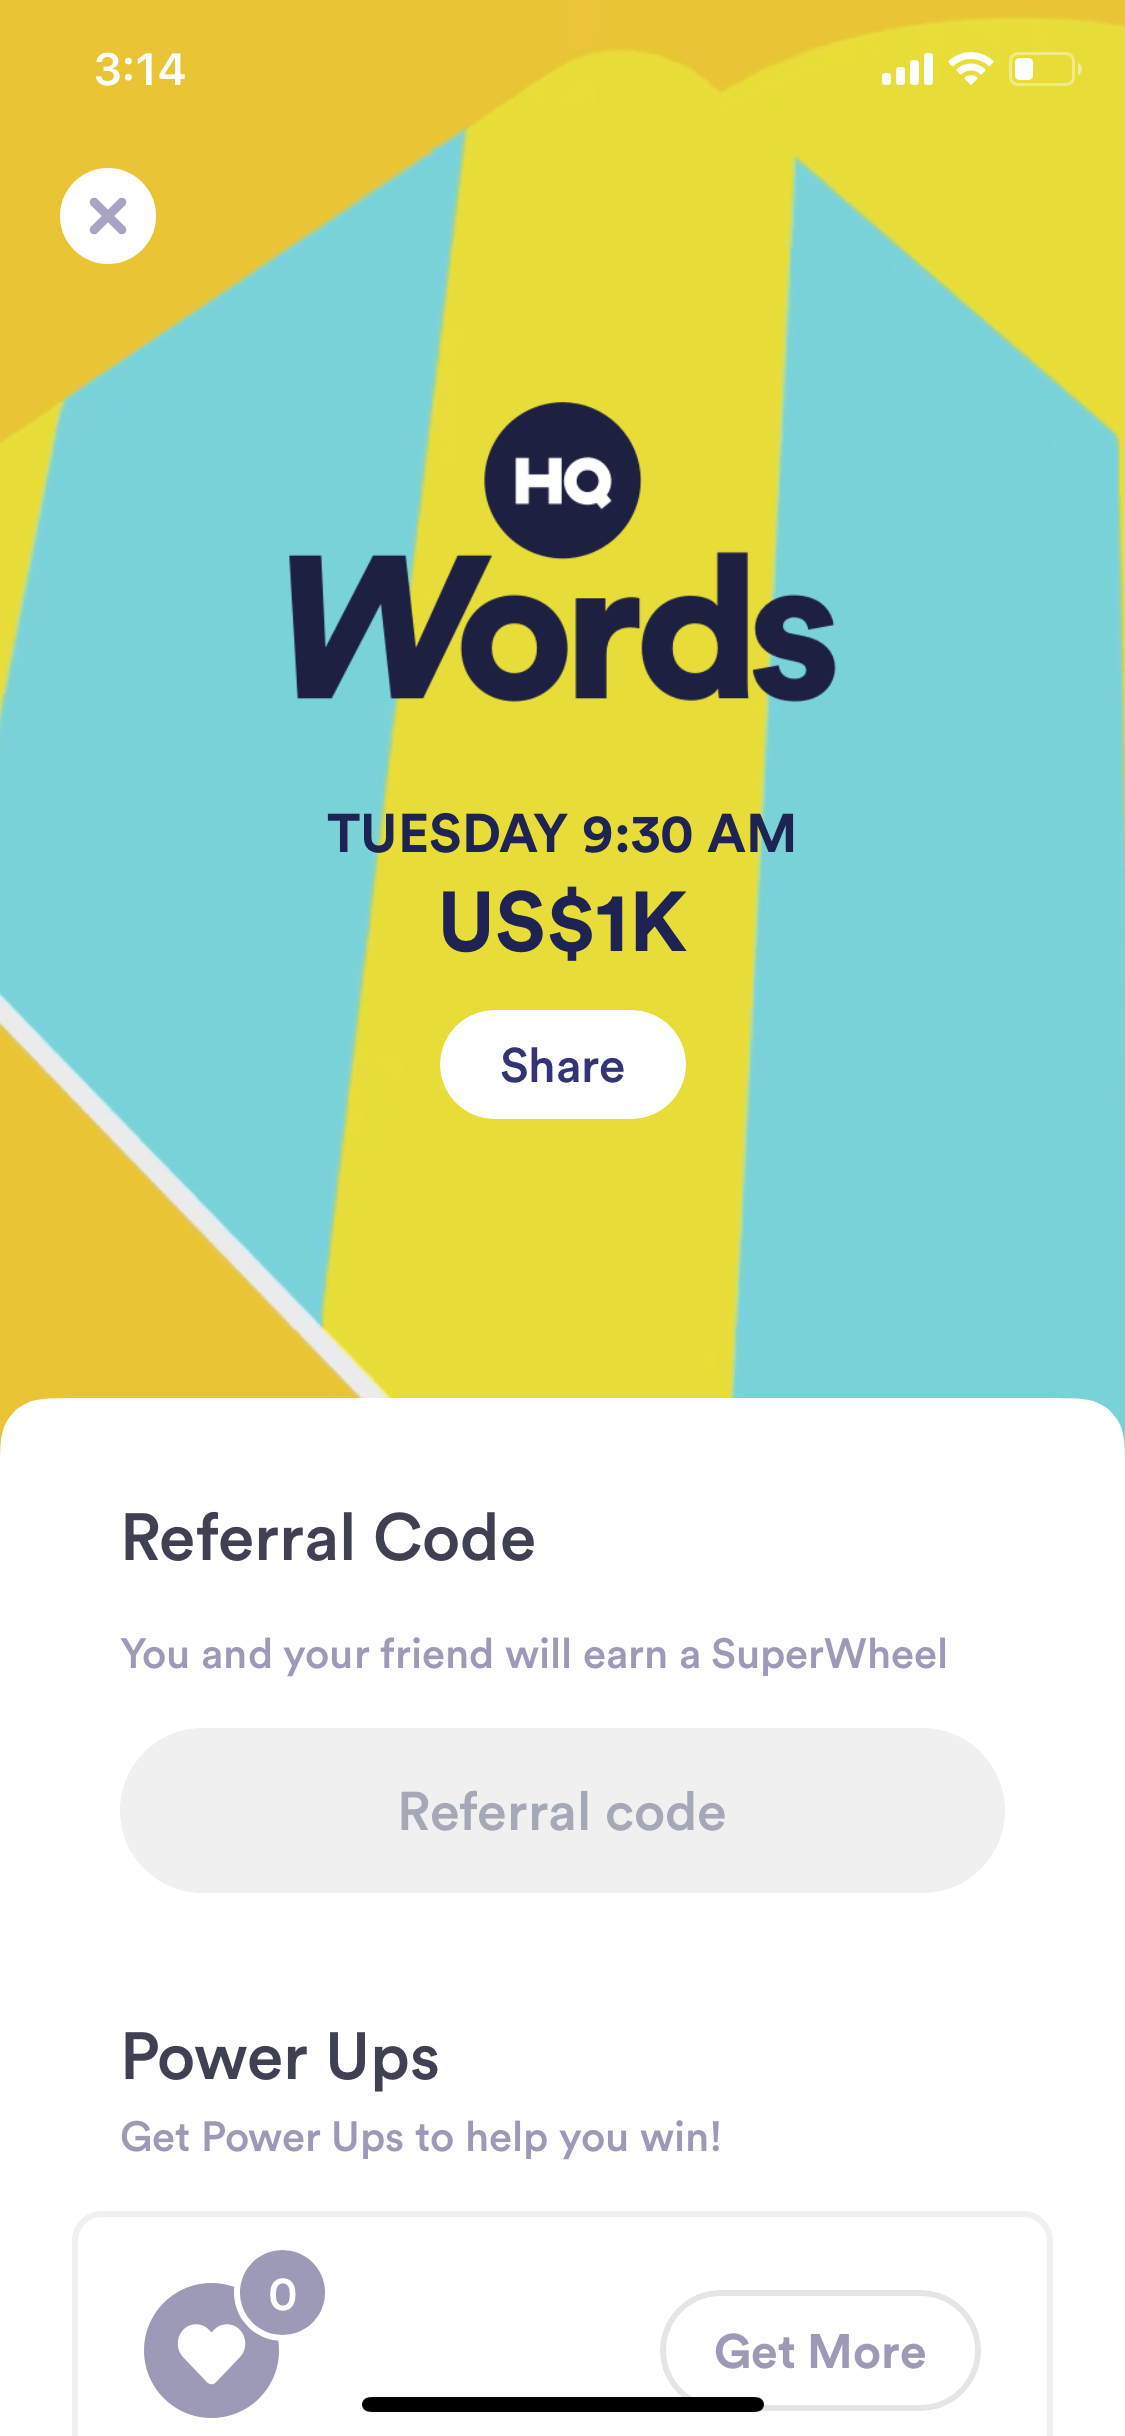Buttons: (110, 1724, 1005, 1920), (650, 2282, 994, 2417), (427, 997, 691, 1131), (64, 152, 162, 269)
